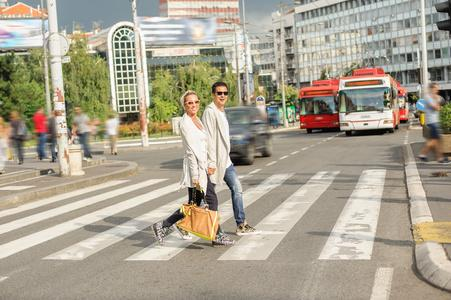bus: (337, 68, 407, 136), (297, 80, 340, 133)
car: (225, 106, 272, 165)
person: (178, 85, 259, 237), (415, 83, 448, 163), (71, 106, 96, 159), (6, 110, 30, 165), (48, 109, 71, 162), (32, 106, 50, 161), (0, 111, 15, 169), (104, 114, 121, 155)
traffic light: (434, 0, 451, 32)
